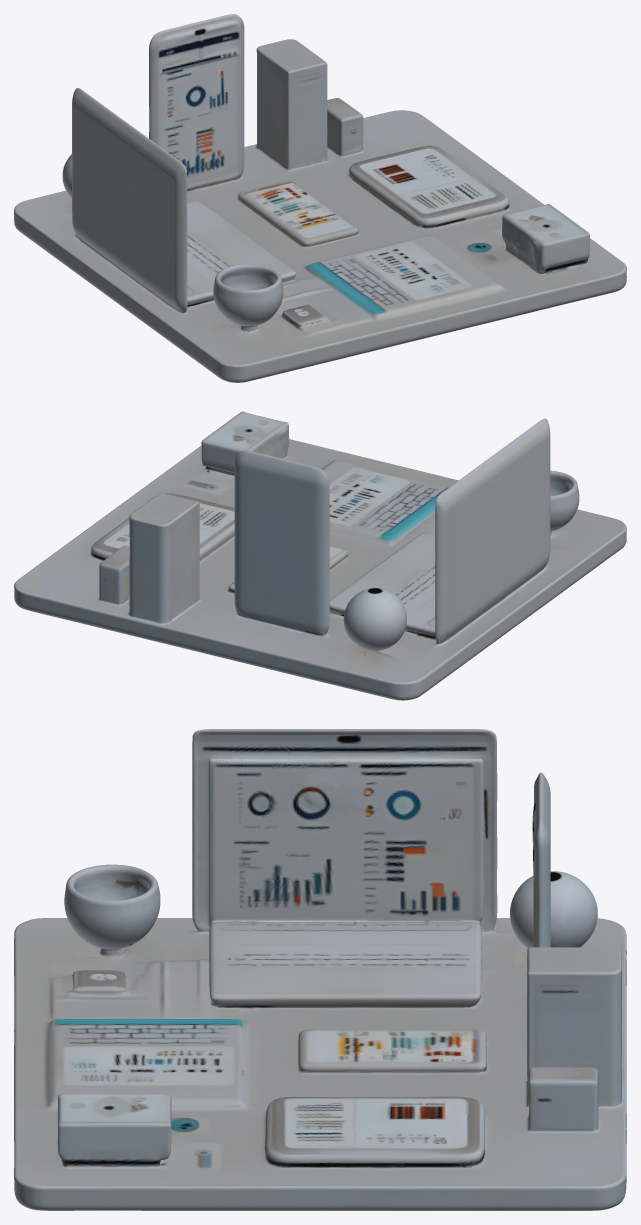
Rendered from Sparrow-model.glb.
The picture shows the model from 3 angles, top to bottom: view 1: azimuth 30°, elevation 25°; view 2: azimuth 150°, elevation 25°; view 3: azimuth 270°, elevation 25°; orthographic projection. The views are drawn at different scales.
Visible parts, largest first — view 1: tripo_node_3947a233-7786-407f-a366-c419ed954742; view 2: tripo_node_3947a233-7786-407f-a366-c419ed954742; view 3: tripo_node_3947a233-7786-407f-a366-c419ed954742.
Boxes of the visible parts, x1,y1,x2,y2 form: tripo_node_3947a233-7786-407f-a366-c419ed954742: [14, 14, 626, 382]; tripo_node_3947a233-7786-407f-a366-c419ed954742: [14, 411, 626, 700]; tripo_node_3947a233-7786-407f-a366-c419ed954742: [14, 729, 626, 1210].
Size of the model in its own units: 0.9509 by 0.4184 by 0.9115.
1 material, 1 textured.
